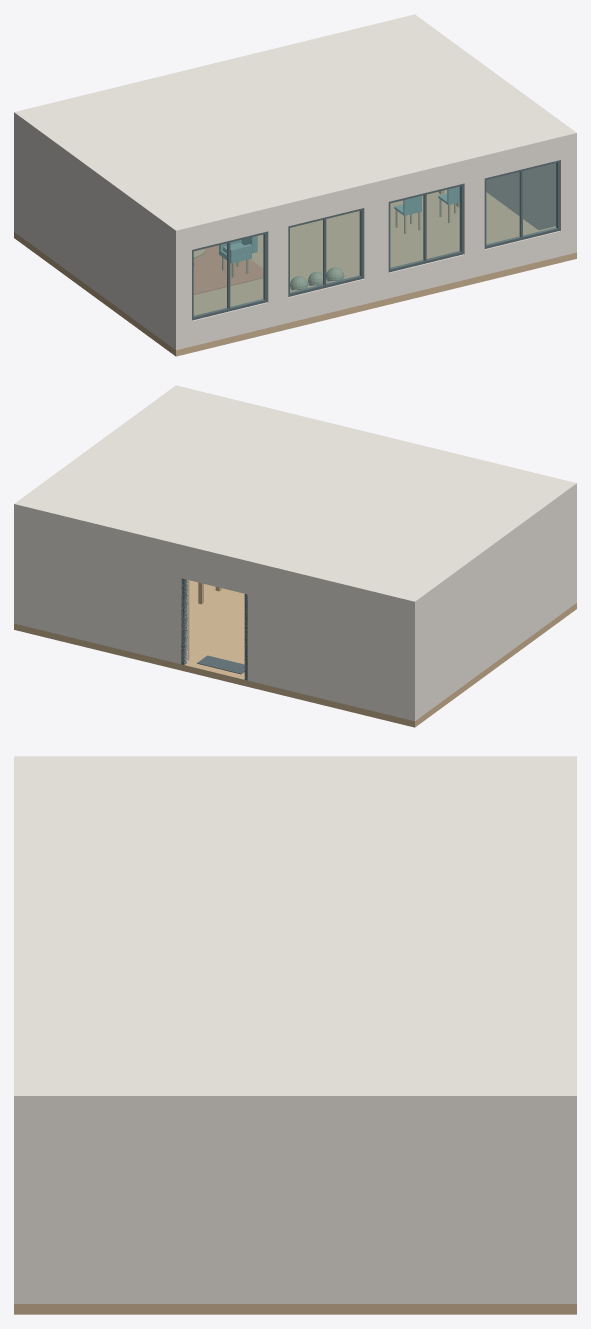
Rendered from second.gltf.
3 renders of one model, top to bottom at view 1: azimuth 30°, elevation 25°; view 2: azimuth 150°, elevation 25°; view 3: azimuth 270°, elevation 25°, orthographic. The views are drawn at different scales.
Parts seen in each view (by area): view 1: ceiling, wall_w, floor, wall_n_sill, wall_n_header, window_3_glass, window_2_glass, window_1_glass, window_0_glass, wall_e, decor_rug, wall_n_pillar_2 (+4 smaller); view 2: ceiling, wall_s_a, wall_s_b, wall_w, floor, wall_s_header, wall_e, door_post_e, decor_doormat; view 3: ceiling, wall_e, floor, wall_n_pillar_4.
Part boxes in pixels (bbox=[...]): ceiling: bbox=[14, 14, 576, 236]; wall_w: bbox=[14, 118, 181, 350]; floor: bbox=[14, 189, 576, 356]; wall_n_sill: bbox=[172, 227, 576, 349]; wall_n_header: bbox=[172, 140, 576, 253]; window_3_glass: bbox=[486, 163, 557, 245]; window_2_glass: bbox=[390, 186, 460, 268]; window_1_glass: bbox=[290, 211, 360, 293]; window_0_glass: bbox=[194, 234, 264, 316]; wall_e: bbox=[486, 139, 576, 229]; decor_rug: bbox=[193, 245, 263, 294]; wall_n_pillar_2: bbox=[363, 202, 388, 278]; ceiling: bbox=[14, 385, 576, 607]; wall_s_a: bbox=[244, 566, 418, 720]; wall_s_b: bbox=[14, 511, 187, 664]; wall_w: bbox=[409, 489, 576, 721]; floor: bbox=[14, 580, 576, 727]; wall_s_header: bbox=[184, 552, 244, 593]; wall_e: bbox=[14, 510, 19, 624]; door_post_e: bbox=[181, 578, 187, 664]; decor_doormat: bbox=[197, 655, 244, 674]; ceiling: bbox=[14, 756, 576, 1106]; wall_e: bbox=[14, 1107, 576, 1303]; floor: bbox=[14, 1304, 576, 1314]; wall_n_pillar_4: bbox=[14, 1136, 25, 1259].
Bounding box in the file's own units: 10 × 3 × 7.
